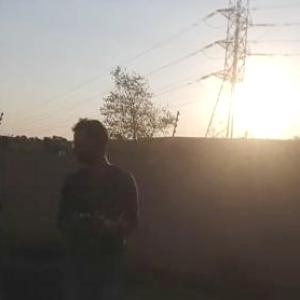follow: (49, 112, 148, 299)
